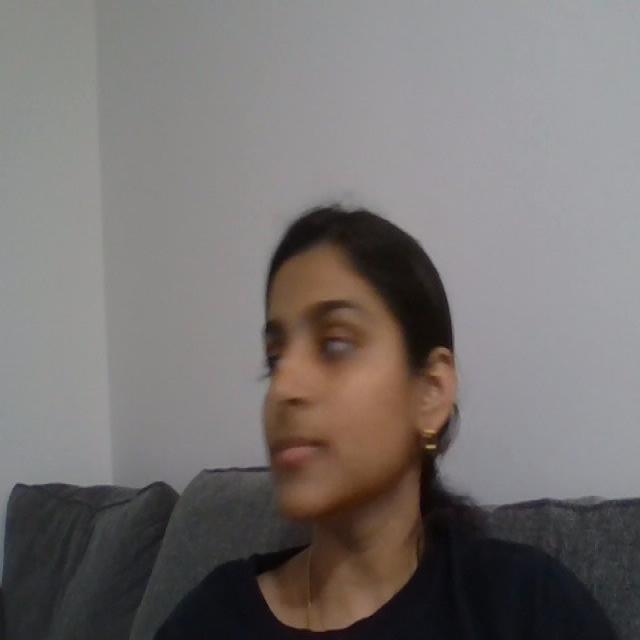No Hat: (214, 144, 432, 295)
